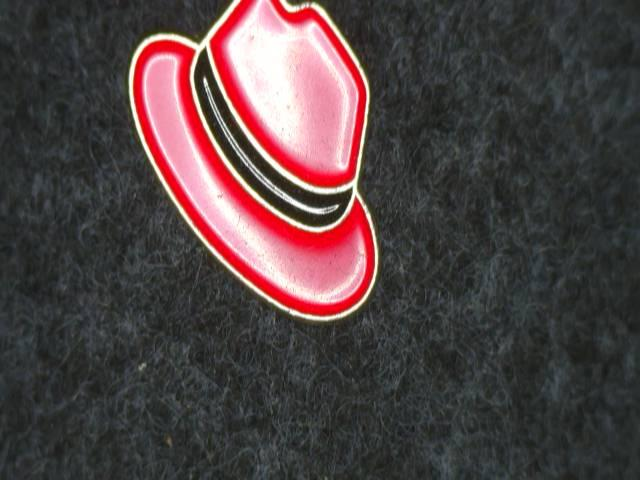Red-Hat: (118, 0, 392, 367)
